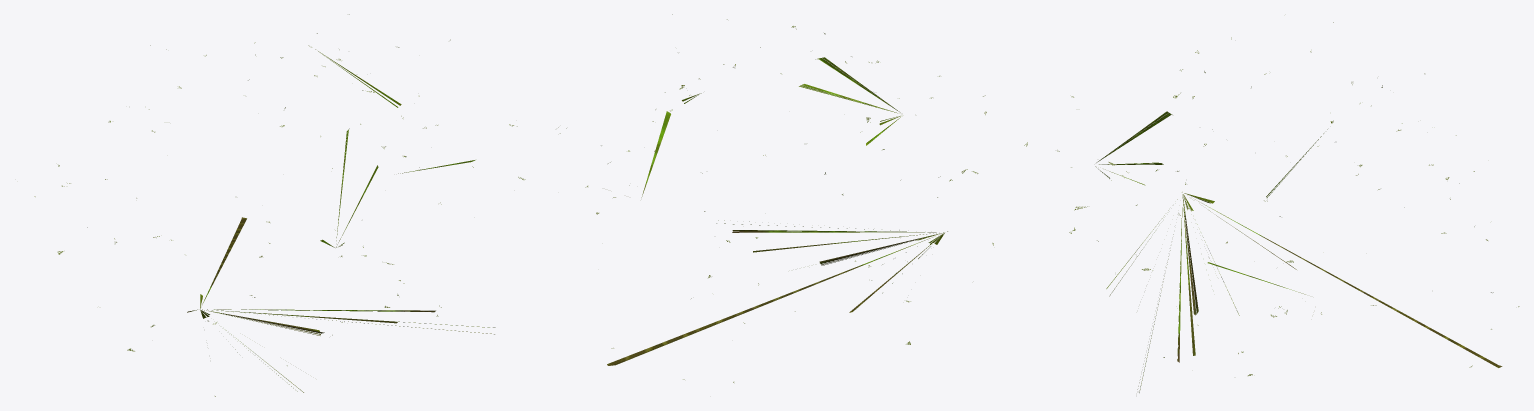
Rendered from shrubbery.glb.
The picture shows the model from 3 angles, left to right: view 1: azimuth 30°, elevation 25°; view 2: azimuth 150°, elevation 25°; view 3: azimuth 270°, elevation 25°; orthographic projection. The views are drawn at different scales.
Visible parts, largest first — view 1: geometry_0; view 2: geometry_0; view 3: geometry_0.
Boxes of the visible parts, x1,y1,x2,y2 form: geometry_0: (34, 14, 525, 396); geometry_0: (558, 14, 993, 382); geometry_0: (1024, 22, 1519, 392).
Bounding box in the file's own units: 0.9218 × 0.5689 × 0.8796.
1 material, 1 textured.
